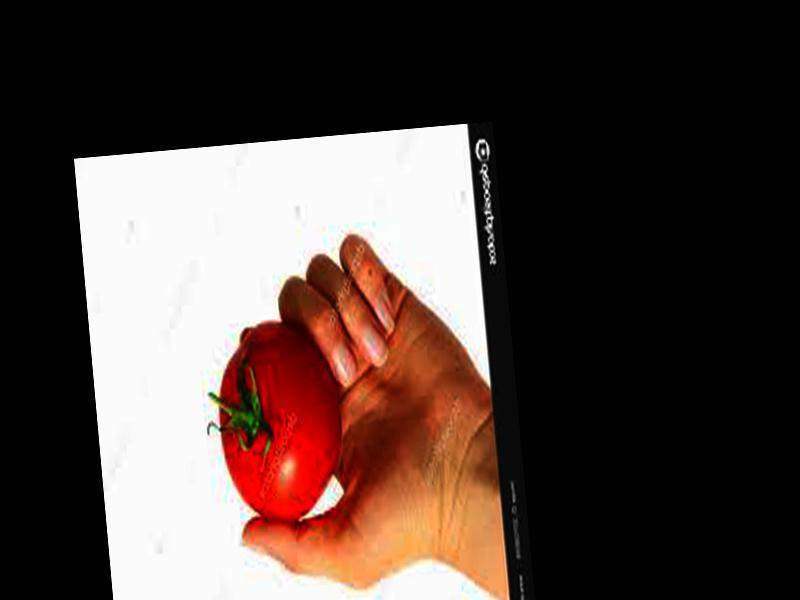Tomato: (210, 320, 349, 525)
